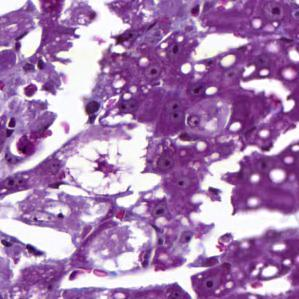ballooning: (59, 120, 154, 198), (69, 217, 161, 279)
